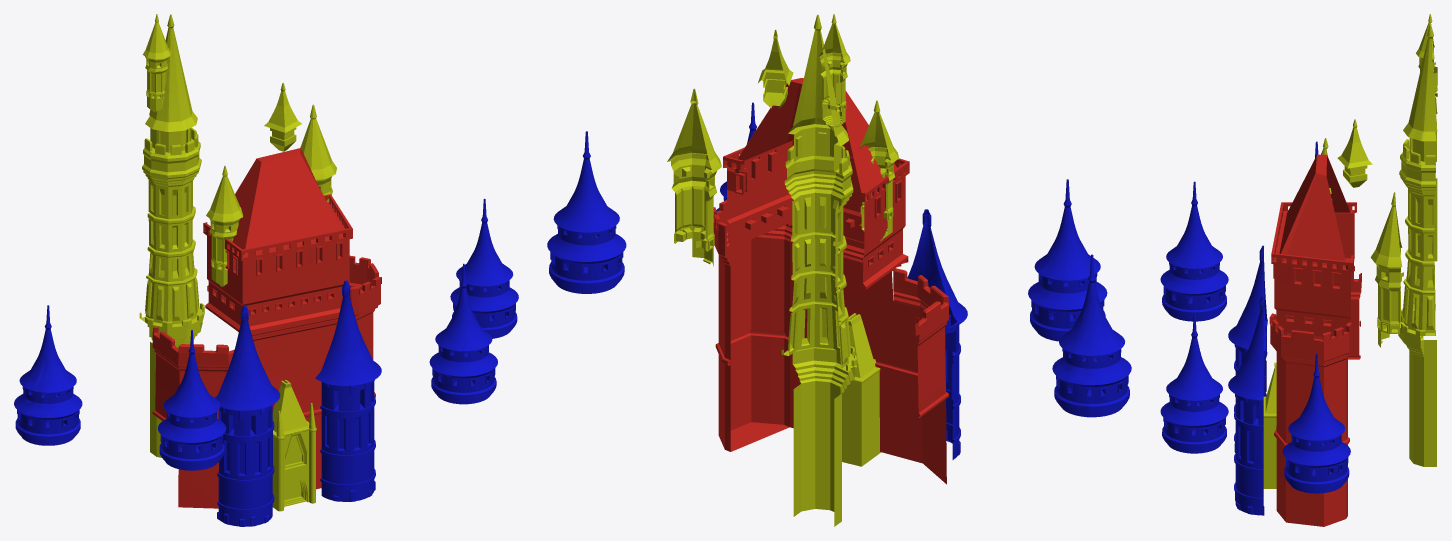
Rendered from Castle_4-5.fbx.
3 renders of one model, left to right at view 1: azimuth 30°, elevation 25°; view 2: azimuth 150°, elevation 25°; view 3: azimuth 270°, elevation 25°, orthographic. The views are drawn at different scales.
Parts seen in each view (by area): view 1: Цилиндр.001, Куб.011, Куб.010; view 2: Куб.011, Куб.010, Цилиндр.001; view 3: Цилиндр.001, Куб.011, Куб.010.
Boxes of the visible parts, x1,y1,x2,y2 form: Цилиндр.001: (14,198,518,526); Куб.011: (152,148,381,508); Куб.010: (139,14,336,511); Куб.011: (713,78,948,484); Куб.010: (667,14,898,526); Цилиндр.001: (547,102,1131,459); Цилиндр.001: (1160,141,1350,515); Куб.011: (1269,154,1361,526); Куб.010: (1263,14,1437,488).
Size of the model in its own units: 4679 by 3984 by 2275.
